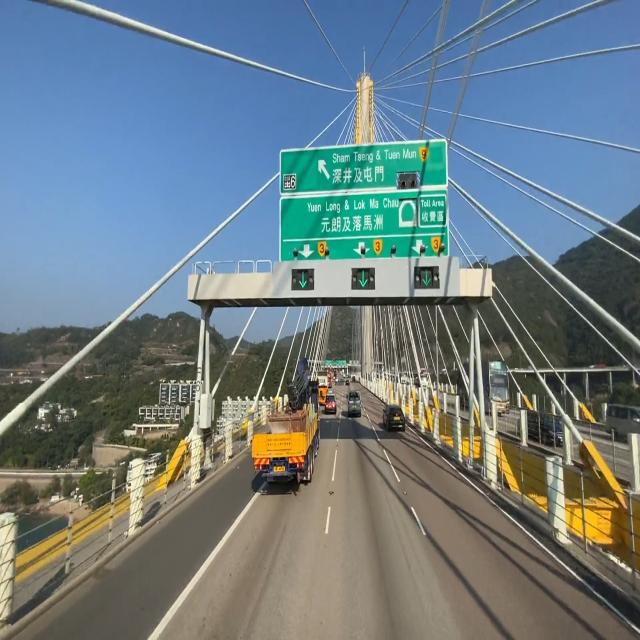Car: (252, 357, 323, 491), (379, 398, 408, 437), (347, 386, 363, 419)
